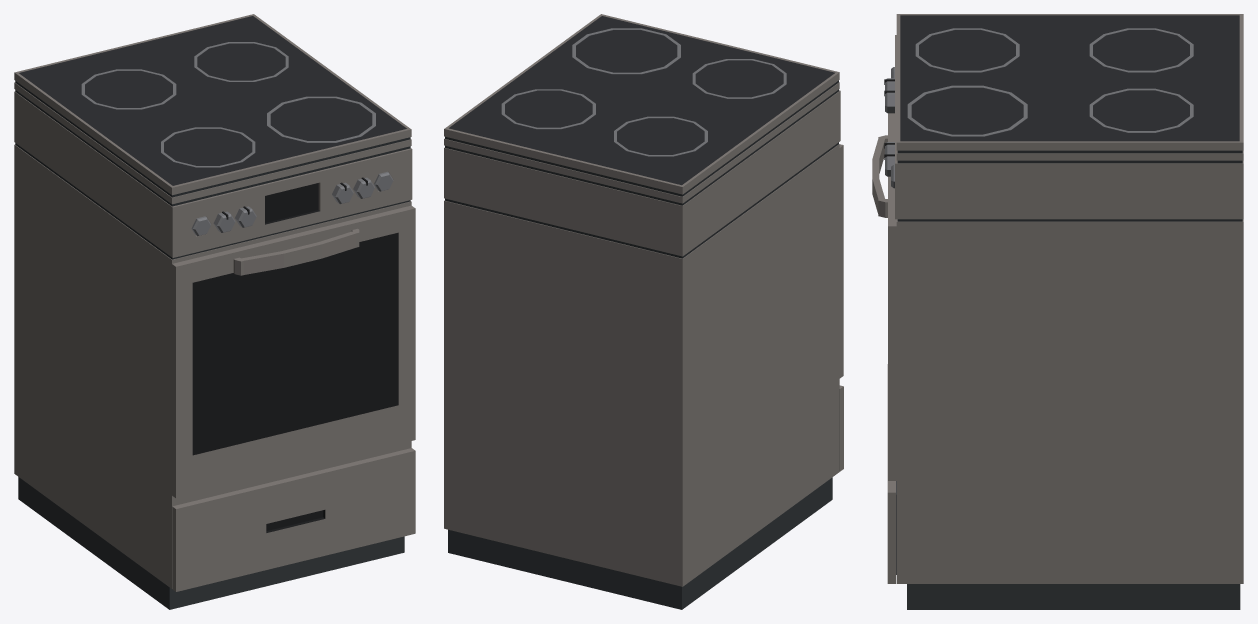
The model's file is electricstove_01_A.gltf.
The picture shows the model from 3 angles, left to right: view 1: azimuth 30°, elevation 25°; view 2: azimuth 150°, elevation 25°; view 3: azimuth 270°, elevation 25°; orthographic projection. The views are drawn at different scales.
Visible parts, largest first — view 1: electricstove_01_A, Doorforelectricstove_01_A, pulloutshelfforelectricstove_01_A; view 2: electricstove_01_A, Doorforelectricstove_01_A; view 3: electricstove_01_A, Doorforelectricstove_01_A, pulloutshelfforelectricstove_01_A.
Boxes of the visible parts, box(x1,y1,x2,y2) form: electricstove_01_A: box(14, 14, 412, 609); Doorforelectricstove_01_A: box(172, 205, 415, 498); pulloutshelfforelectricstove_01_A: box(172, 448, 415, 591); electricstove_01_A: box(444, 14, 840, 609); Doorforelectricstove_01_A: box(839, 144, 843, 378); electricstove_01_A: box(895, 14, 1243, 609); Doorforelectricstove_01_A: box(872, 113, 896, 480); pulloutshelfforelectricstove_01_A: box(887, 364, 896, 583).
Bounding box in the file's own units: 0.5 × 0.8508 × 0.6099.
1 material, 1 textured.
